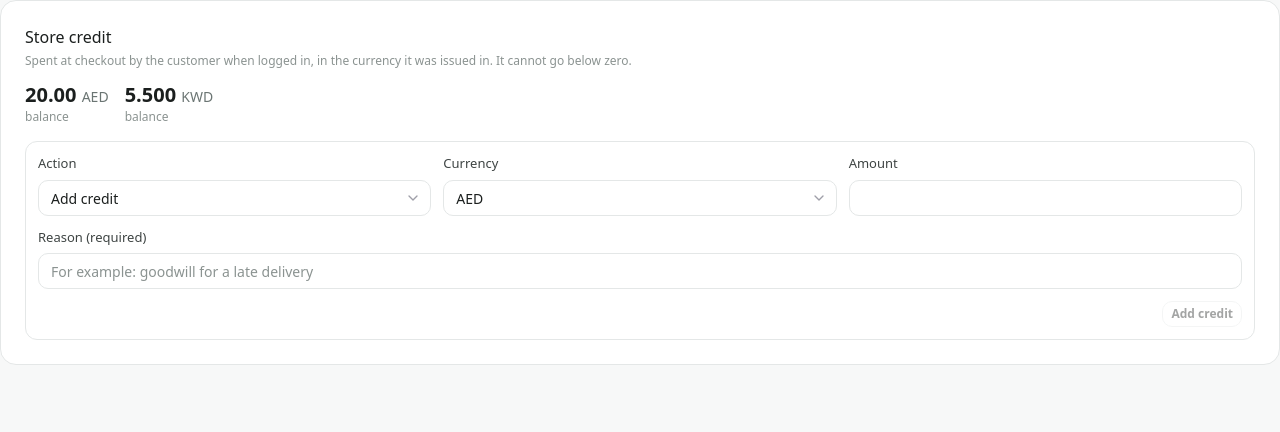
Scenario: StoreCreditCard › shows the server's refusal (balance below zero) and keeps the form
Expected: the text "20.00" is shown, [25,81,76,108]
Select "Deduct credit" in the dropdown labelled "Action" at (235, 198), box [38,180,431,216]
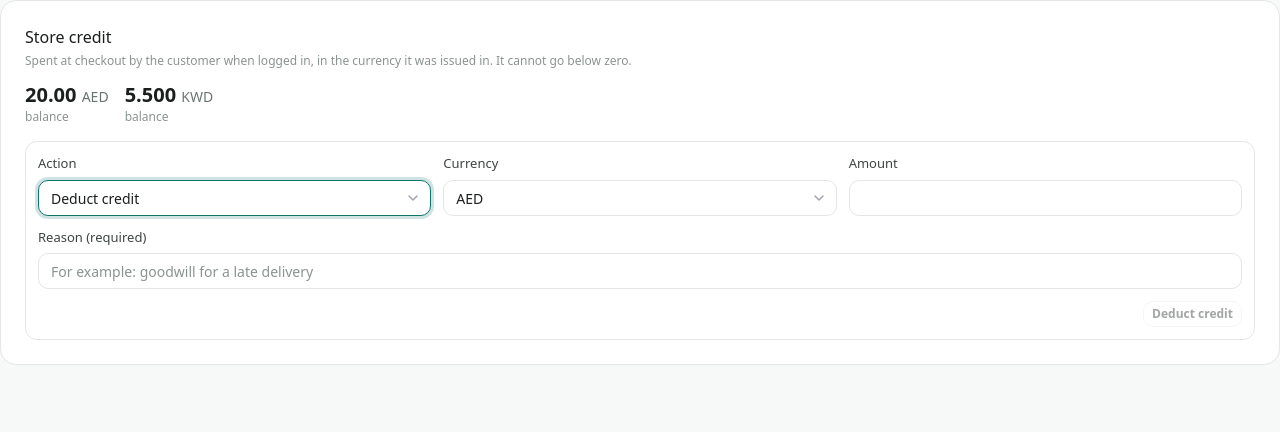
Type "99" into the field labelled "Amount" at (1045, 198), box [849,180,1242,216]
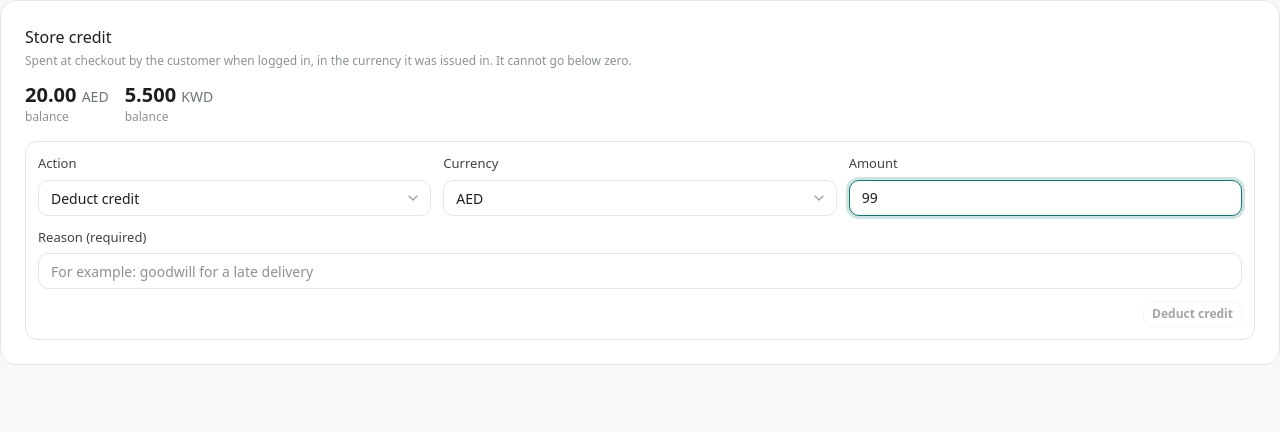
Type "correction" into the field labelled "Reason (required)" at (640, 271), box [38,253,1242,289]
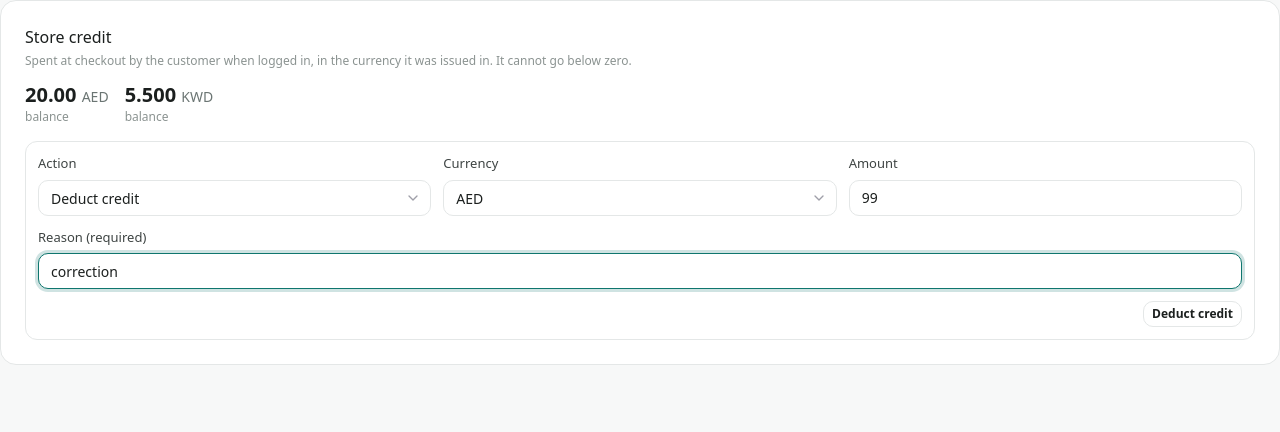
Click the button "Deduct credit" at (1193, 314), box [1143,301,1242,327]
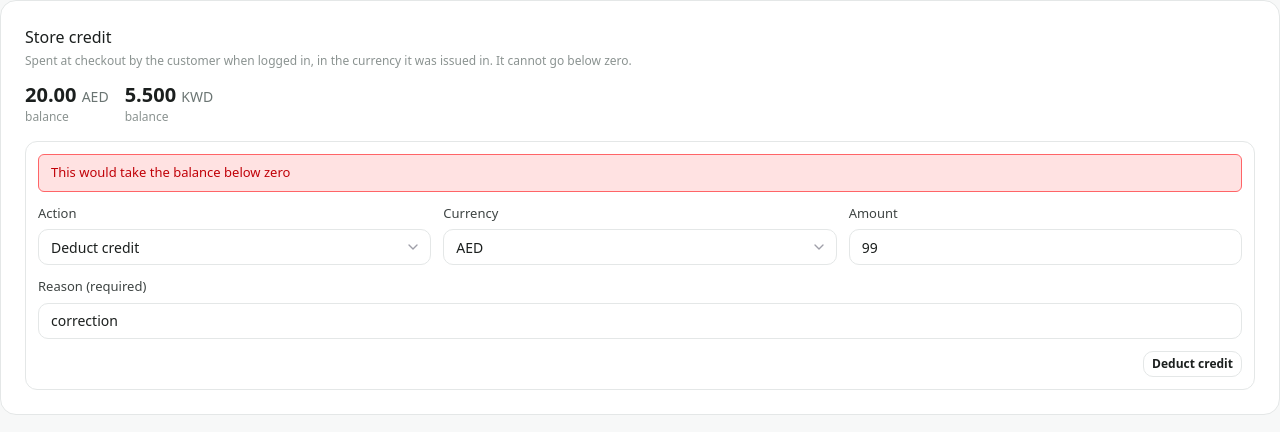
Expected: the text "This would take the balance below zero" is shown, [38,154,1242,192]
